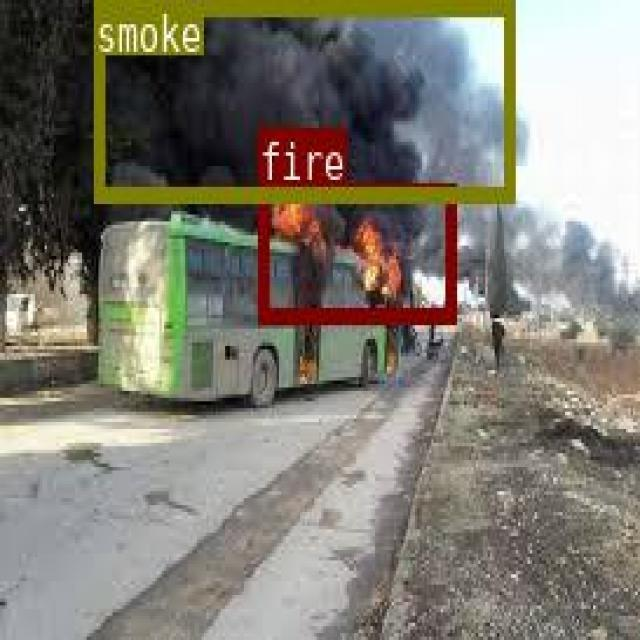fire: (257, 181, 454, 320)
smoke: (93, 0, 512, 197)
